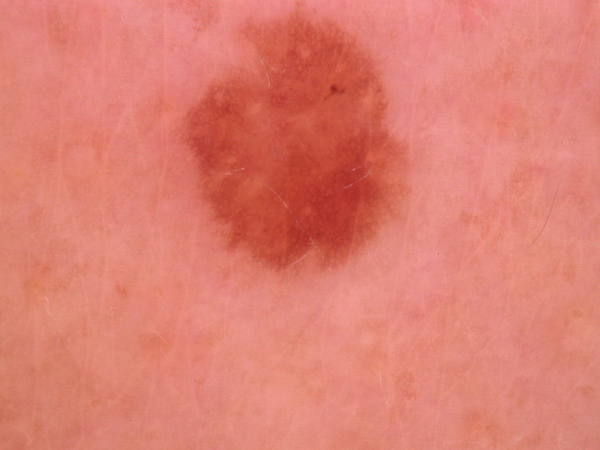Detected Lesion: (178, 10, 412, 290)
